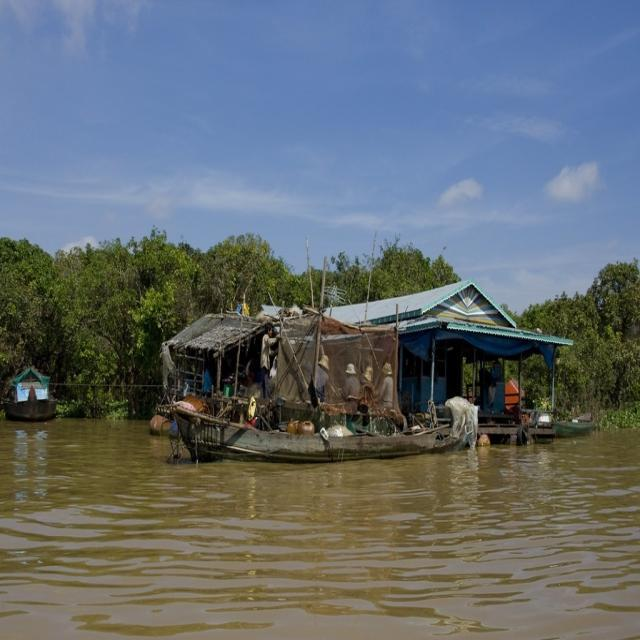Hyacinth: (597, 405, 639, 436)
boat: (161, 402, 468, 468), (10, 368, 60, 424)
